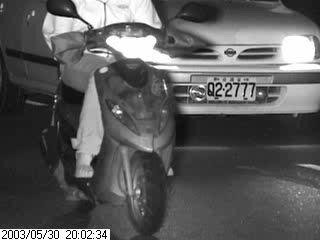plate: (205, 75, 258, 105)
